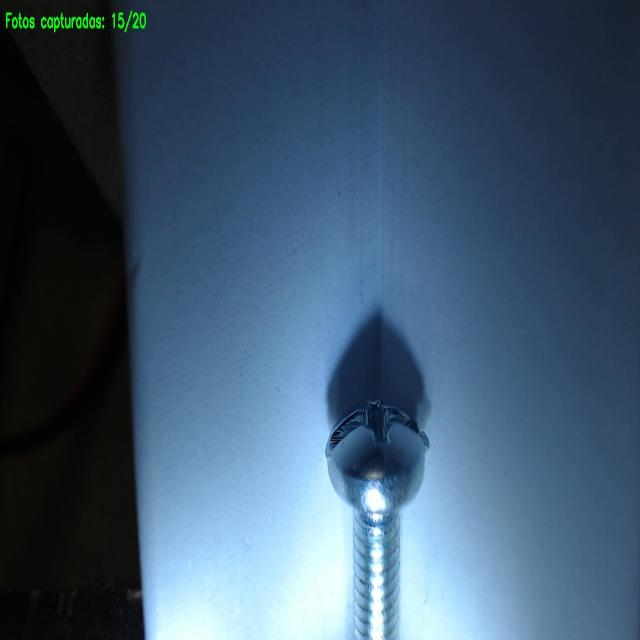vastago: (354, 518, 400, 639)
